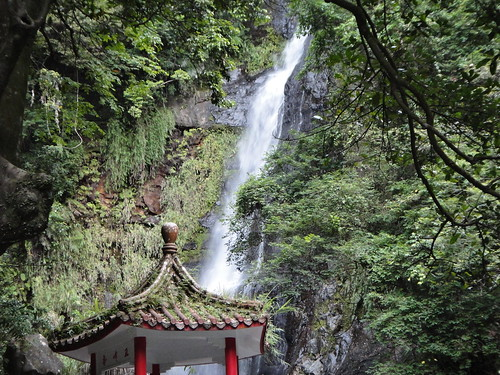wufengciWaterfall: (185, 4, 324, 302)
